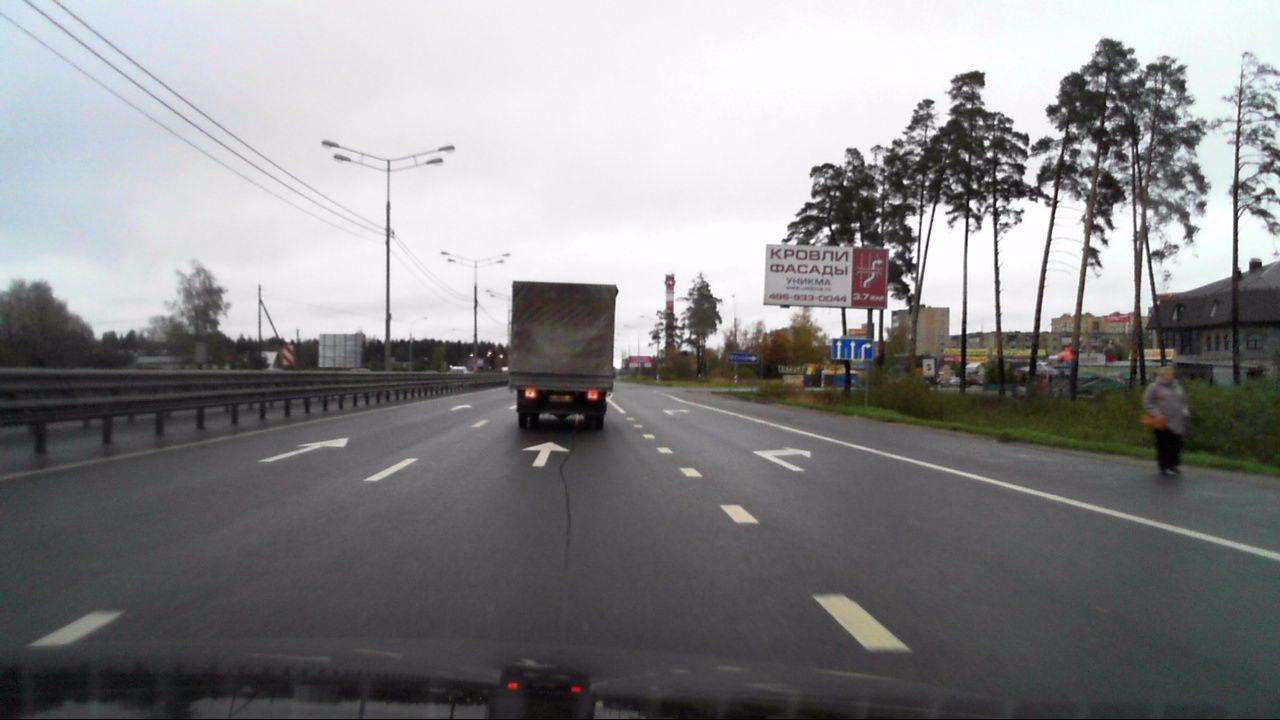5_15_1: (832, 338, 873, 360)
6_10_1: (729, 351, 760, 365)
